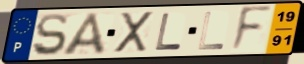A: (60, 11, 108, 57)
F: (229, 4, 274, 54)
L: (153, 12, 183, 52), (197, 10, 226, 51)
S: (31, 12, 70, 57)
X: (113, 10, 155, 55)
